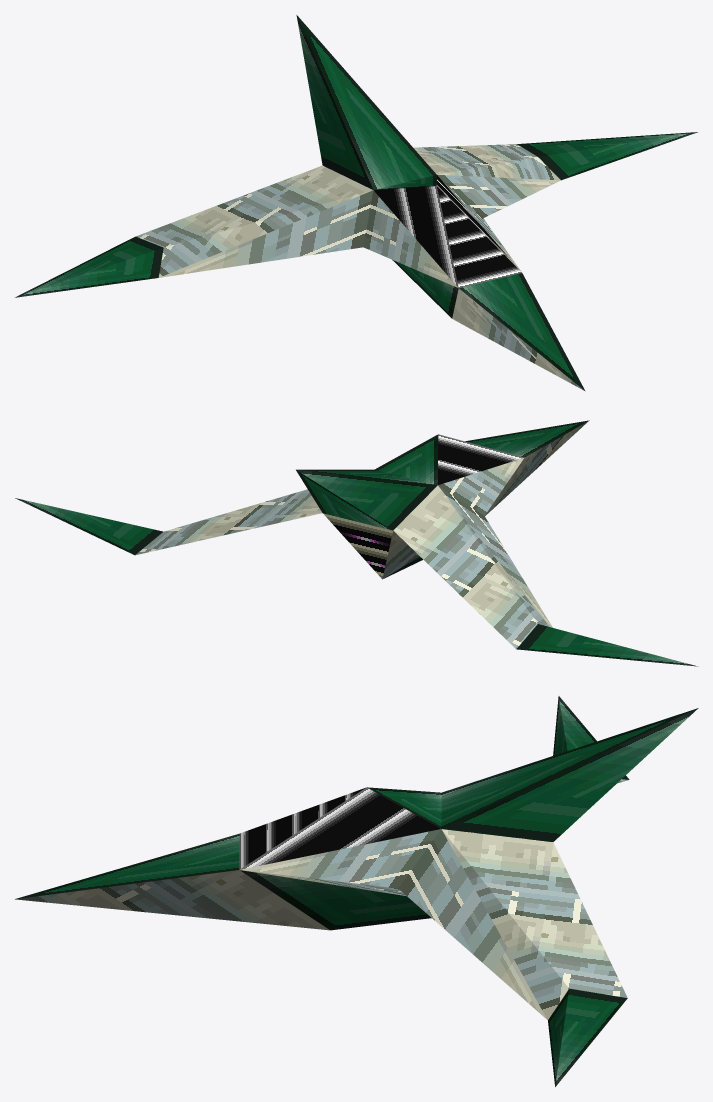
Rendered from Cornerian.obj.
The picture shows the model from 3 angles, top to bottom: view 1: azimuth 30°, elevation 25°; view 2: azimuth 150°, elevation 25°; view 3: azimuth 270°, elevation 25°; orthographic projection. The views are drawn at different scales.
Parts seen in each view (by area): view 1: ShapeIndexedFaceSet.011; view 2: ShapeIndexedFaceSet.011; view 3: ShapeIndexedFaceSet.011.
Part boxes in pixels (x1,y1,x2,y2): ShapeIndexedFaceSet.011: [15, 15, 697, 391]; ShapeIndexedFaceSet.011: [15, 420, 698, 666]; ShapeIndexedFaceSet.011: [15, 696, 698, 1086].
Bounding box in the file's own units: 5.82 × 1.54 × 4.29.
